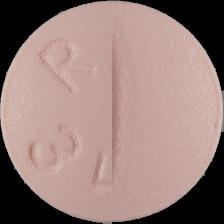66116-352: (0, 0, 224, 224)
